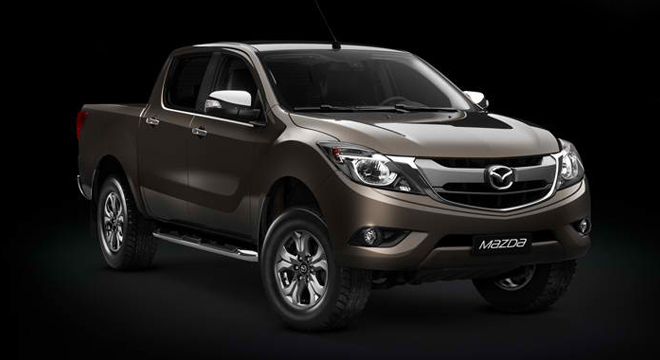pickup: (70, 38, 599, 333)
